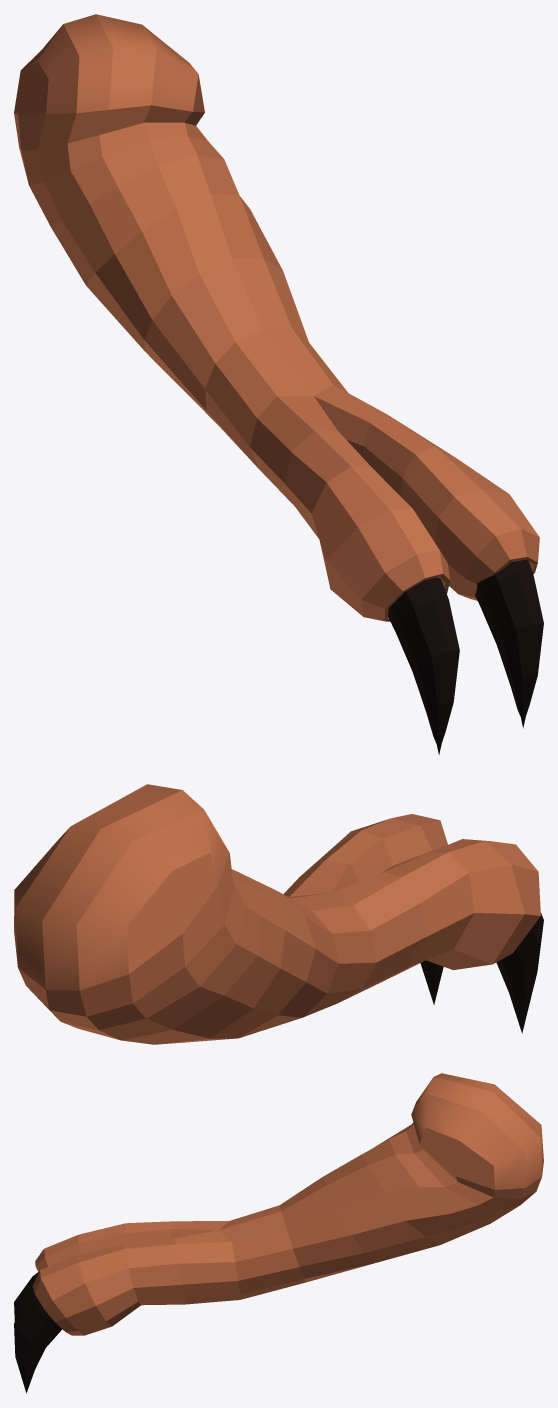
The model's file is BrazoIzq.obj.
The picture shows the model from 3 angles, top to bottom: view 1: azimuth 30°, elevation 25°; view 2: azimuth 150°, elevation 25°; view 3: azimuth 270°, elevation 25°; orthographic projection. The views are drawn at different scales.
Parts seen in each view (by area): view 1: polySurface31; view 2: polySurface31; view 3: polySurface31.
Boxes of the visible parts, bbox=[...] form: polySurface31: bbox=[14, 14, 543, 754]; polySurface31: bbox=[14, 784, 543, 1044]; polySurface31: bbox=[14, 1073, 543, 1393].
Size of the model in its own units: 0.4273 by 0.995 by 1.62.
2 materials, 2 textured.
